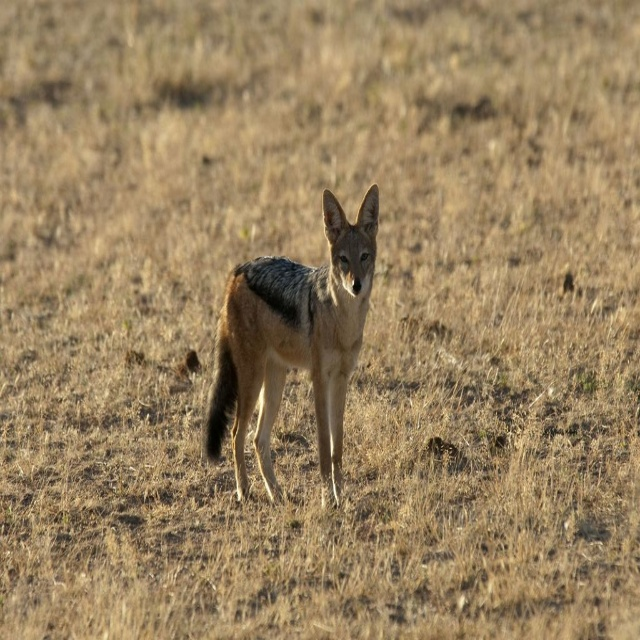Fox: (202, 178, 383, 514)
